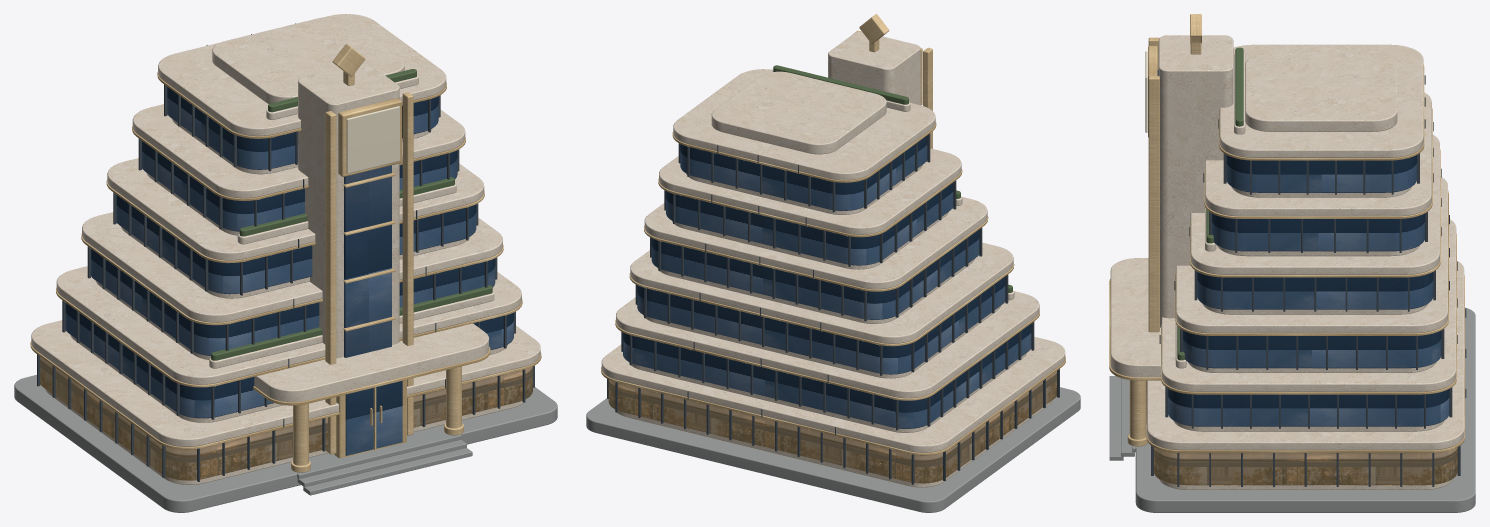
Rendered from level-5-lite.glb.
The picture shows the model from 3 angles, left to right: view 1: azimuth 30°, elevation 25°; view 2: azimuth 150°, elevation 25°; view 3: azimuth 270°, elevation 25°; orthographic projection. The views are drawn at different scales.
Visible parts, largest first — view 1: body, floors, foundation, entrance, roof, canopy, details, sign, emblem; view 2: body, floors, foundation, roof, details, emblem; view 3: body, floors, roof, foundation, canopy, entrance, details, sign, emblem.
Boxes of the visible parts, x1,y1,x2,y2 form: body: (37, 63, 534, 484); floors: (30, 14, 541, 449); foundation: (14, 375, 557, 512); entrance: (291, 366, 472, 495); roof: (212, 17, 404, 103); canopy: (253, 323, 490, 405); details: (206, 23, 494, 427); sign: (338, 98, 401, 176); emblem: (332, 44, 365, 85); body: (607, 30, 1059, 487); floors: (601, 69, 1065, 455); foundation: (586, 387, 1080, 512); roof: (711, 71, 886, 154); details: (687, 65, 1014, 435); emblem: (859, 14, 889, 52); body: (1148, 35, 1460, 489); floors: (1146, 44, 1464, 452); roof: (1245, 53, 1397, 131); foundation: (1135, 307, 1475, 512); canopy: (1109, 258, 1160, 380); entrance: (1109, 376, 1147, 460); details: (1159, 47, 1466, 397); sign: (1145, 45, 1157, 137); emblem: (1190, 14, 1201, 54).
Bounding box in the file's own units: 6.5 × 6.33 × 5.18.
Materials: 9 (4 with a texture image).
